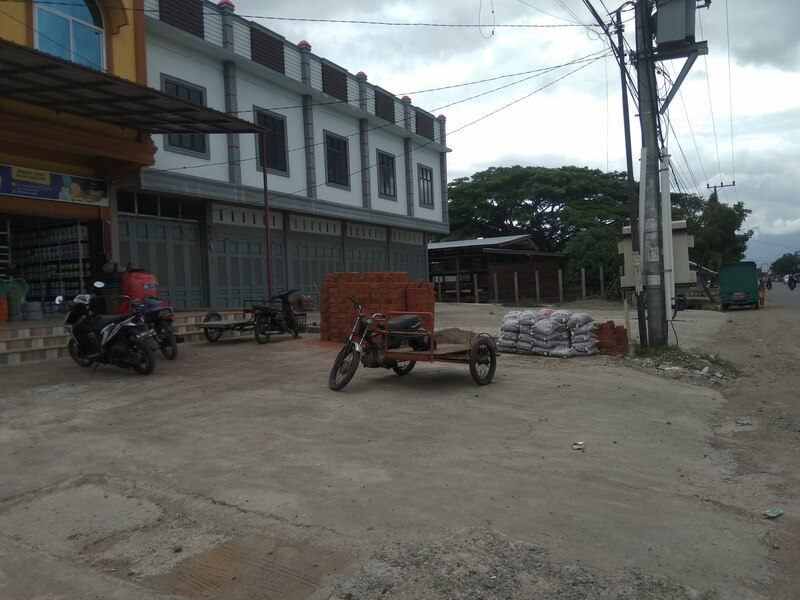becak barang: (327, 292, 501, 397), (190, 286, 306, 344)
